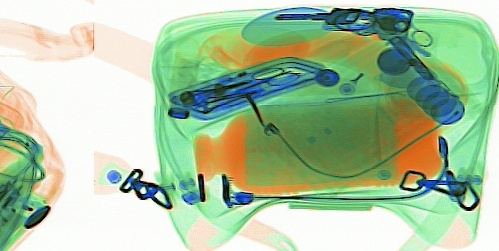scissors: (205, 64, 300, 100)
